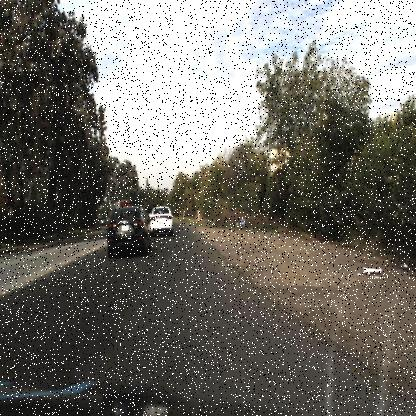car: (106, 203, 151, 259), (146, 197, 178, 240), (150, 205, 177, 237)
